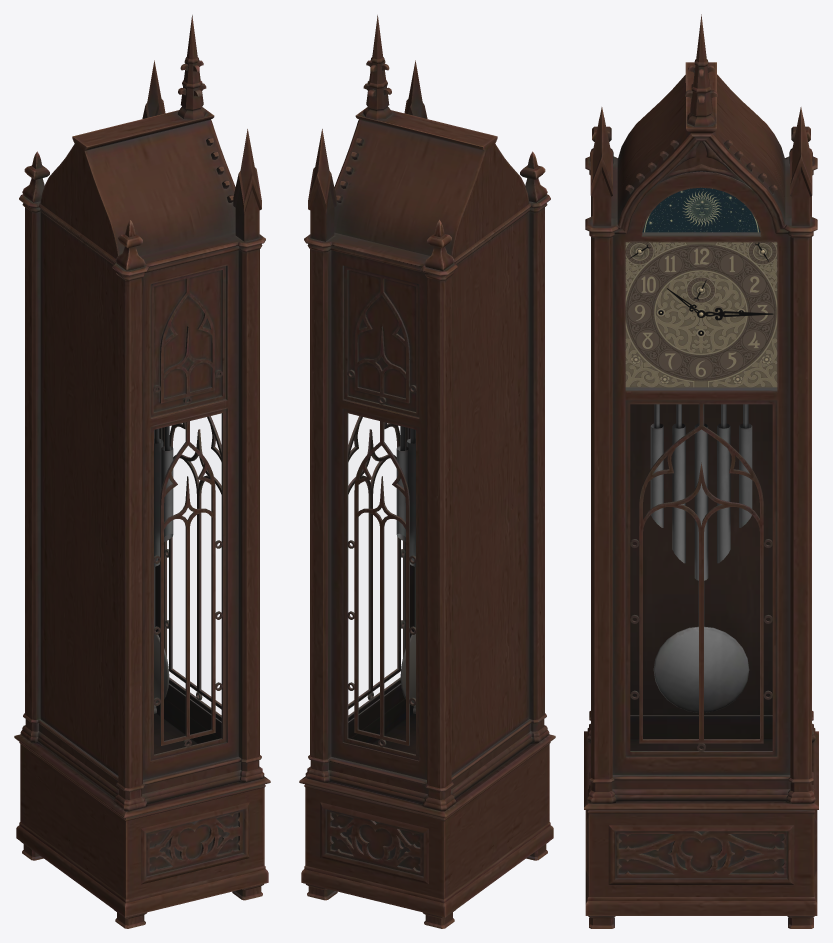
The model's file is grandfather-clock.glb.
3 views of the same model, side by side, from view 1: azimuth 30°, elevation 25°; view 2: azimuth 150°, elevation 25°; view 3: azimuth 270°, elevation 25° (orthographic). The views are drawn at different scales.
Visible parts, largest first — view 1: ClockCase_ClockCase_0; view 2: ClockCase_ClockCase_0; view 3: ClockCase_ClockCase_0, Clockface_Clockface_0, MoonDial_MoonDial_0.
Boxes of the visible parts, <box> form: ClockCase_ClockCase_0: <box>14,15,270,928</box>; ClockCase_ClockCase_0: <box>299,15,555,928</box>; ClockCase_ClockCase_0: <box>584,14,818,928</box>; Clockface_Clockface_0: <box>625,242,777,387</box>; MoonDial_MoonDial_0: <box>642,187,760,232</box>.
Size of the model in its own units: 47.47 by 263 by 61.93.
4 materials, 3 textured.
